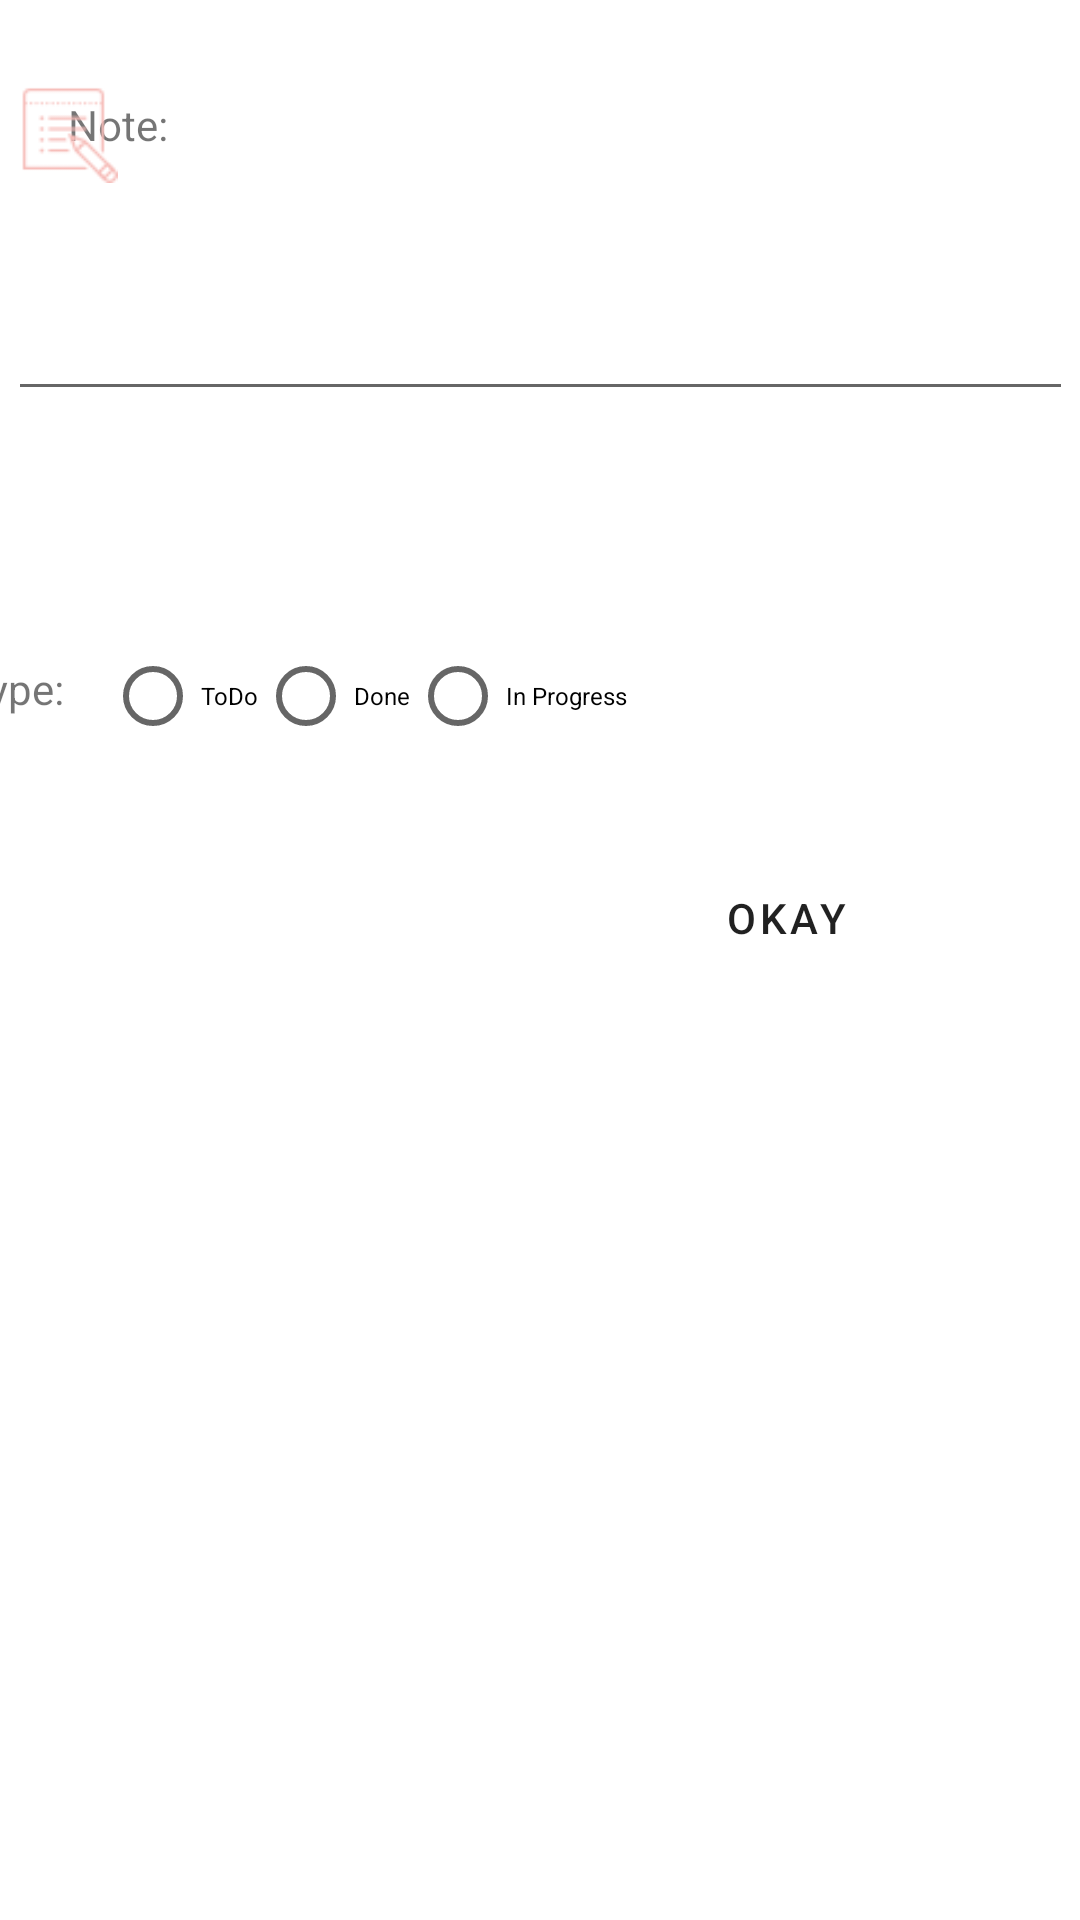

Screen size 1080px x 1920px. Icon name, then its box in pixels as {"left": x1, "top": y1, "right": x2, "bottom": y2}:
edit property: {"left": 23, "top": 88, "right": 119, "bottom": 183}
